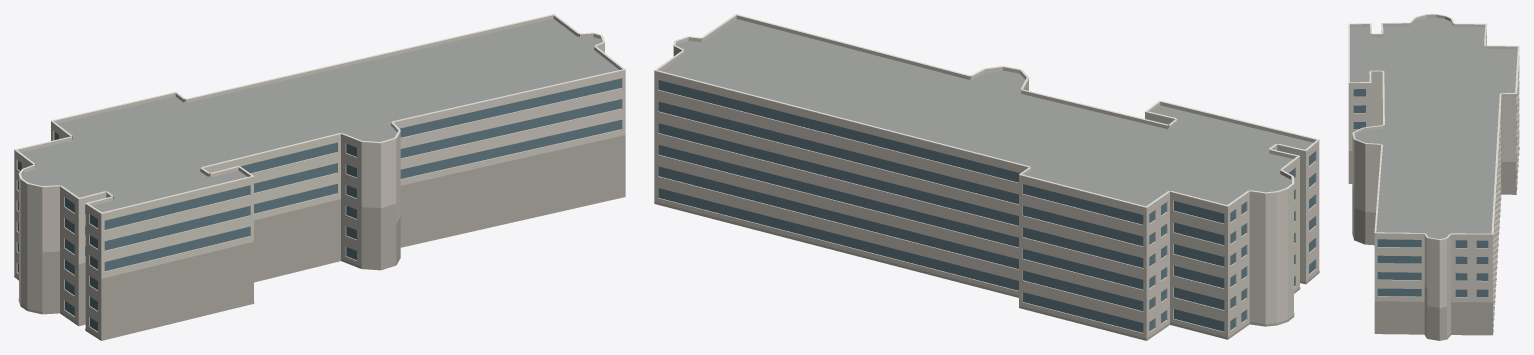
The picture shows the model from 3 angles, left to right: view 1: azimuth 30°, elevation 25°; view 2: azimuth 150°, elevation 25°; view 3: azimuth 270°, elevation 25°; orthographic projection. The views are drawn at different scales.
Parts seen in each view (by area): view 1: kimDaegon__roof, kimDaegon__base, kimDaegon__wall, kimDaegon__glass, kimDaegon__parapet, kimDaegon__trim, kimDaegon__frame; view 2: kimDaegon__wall, kimDaegon__roof, kimDaegon__glass, kimDaegon__parapet, kimDaegon__frame, kimDaegon__trim, kimDaegon__base; view 3: kimDaegon__roof, kimDaegon__wall, kimDaegon__base, kimDaegon__glass, kimDaegon__trim, kimDaegon__parapet.
Boxes of the visible parts, x1,y1,x2,y2 form: kimDaegon__roof: (21, 18, 618, 212); kimDaegon__base: (14, 135, 625, 340); kimDaegon__wall: (14, 46, 625, 338); kimDaegon__glass: (17, 78, 621, 331); kimDaegon__parapet: (14, 15, 625, 216); kimDaegon__trim: (14, 14, 625, 213); kimDaegon__frame: (112, 80, 612, 269); kimDaegon__wall: (654, 49, 1319, 340); kimDaegon__roof: (661, 19, 1312, 206); kimDaegon__glass: (658, 80, 1315, 332); kimDaegon__parapet: (654, 15, 1319, 210); kimDaegon__frame: (667, 82, 1216, 330); kimDaegon__trim: (654, 14, 1319, 207); kimDaegon__base: (654, 201, 1319, 340); kimDaegon__roof: (1350, 17, 1517, 239); kimDaegon__wall: (1348, 30, 1519, 337); kimDaegon__base: (1348, 147, 1519, 340); kimDaegon__glass: (1353, 89, 1488, 297); kimDaegon__trim: (1348, 14, 1519, 240); kimDaegon__parapet: (1348, 14, 1517, 242).
Size of the model in its own units: 107 by 22.2 by 34.16.
